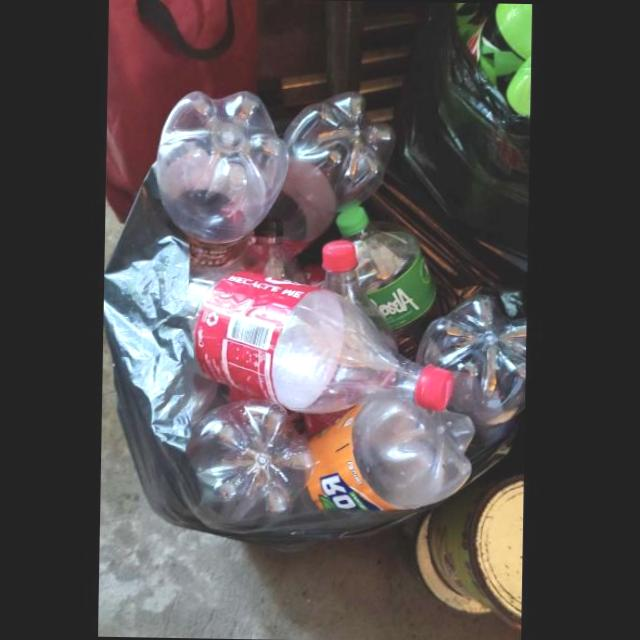chai_nhua_pet: (187, 261, 454, 413), (147, 90, 289, 271), (258, 90, 395, 258), (292, 395, 474, 514), (414, 293, 525, 458), (334, 208, 443, 360), (183, 398, 315, 520)
